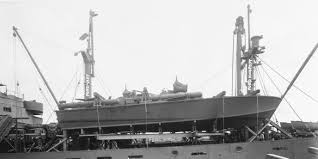boat: (1, 1, 317, 159)
